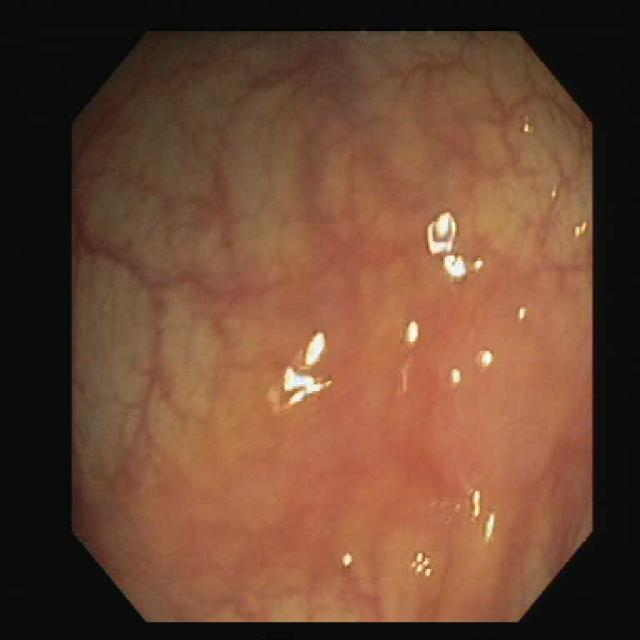tumor: (432, 298, 588, 500)
